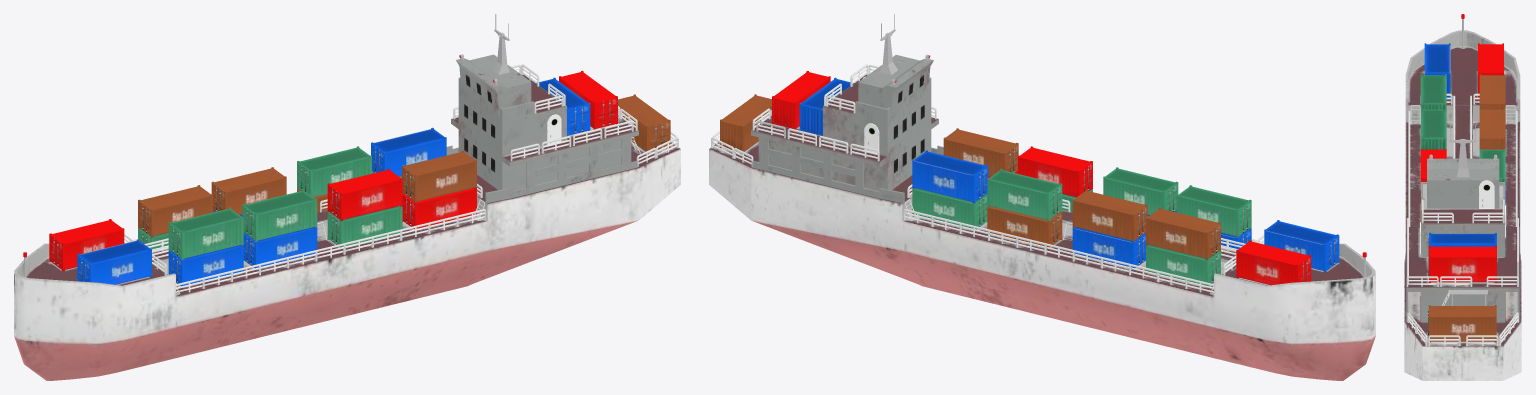
Rendered from container.glb.
The picture shows the model from 3 angles, left to right: view 1: azimuth 30°, elevation 25°; view 2: azimuth 150°, elevation 25°; view 3: azimuth 270°, elevation 25°; orthographic projection. The views are drawn at different scales.
Visible parts, largest first — view 1: polySurface2268, polySurface2207, polySurface2081, polySurface1965, polySurface1987, polySurface2117, polySurface2215, polySurface2336, polySurface2270, polySurface2021, polySurface2138, polySurface2347 (+8 smaller); view 2: polySurface2268, polySurface2207, polySurface2138, polySurface2021, polySurface2270, polySurface2106, polySurface2216, polySurface2347, polySurface2081, polySurface1965, polySurface2336, polySurface1987 (+8 smaller); view 3: polySurface2268, polySurface2207, polySurface2322, polySurface2311, polySurface2106, polySurface1987, polySurface2336, polySurface2300, polySurface2270, polySurface2081, polySurface2347, polySurface2208 (+19 smaller).
Boxes of the visible parts, x1=… form: polySurface2268: x1=14, y1=142, x2=680, y2=380; polySurface2207: x1=451, y1=54, x2=638, y2=190; polySurface2081: x1=168, y1=207, x2=243, y2=259; polySurface1965: x1=327, y1=168, x2=402, y2=221; polySurface1987: x1=242, y1=189, x2=317, y2=241; polySurface2117: x1=402, y1=150, x2=476, y2=202; polySurface2215: x1=485, y1=137, x2=637, y2=203; polySurface2336: x1=77, y1=239, x2=151, y2=284; polySurface2270: x1=138, y1=185, x2=212, y2=237; polySurface2021: x1=297, y1=146, x2=371, y2=197; polySurface2138: x1=371, y1=127, x2=446, y2=176; polySurface2347: x1=49, y1=219, x2=124, y2=271; polySurface2268: x1=709, y1=141, x2=1375, y2=380; polySurface2207: x1=751, y1=55, x2=938, y2=190; polySurface2138: x1=912, y1=150, x2=988, y2=203; polySurface2021: x1=987, y1=169, x2=1062, y2=221; polySurface2270: x1=1146, y1=207, x2=1220, y2=259; polySurface2106: x1=1072, y1=189, x2=1147, y2=241; polySurface2216: x1=752, y1=137, x2=904, y2=203; polySurface2347: x1=1236, y1=240, x2=1311, y2=285; polySurface2081: x1=1176, y1=185, x2=1251, y2=237; polySurface1965: x1=1018, y1=146, x2=1092, y2=197; polySurface2336: x1=1264, y1=220, x2=1339, y2=272; polySurface1987: x1=1103, y1=167, x2=1178, y2=215; polySurface2268: x1=1404, y1=30, x2=1521, y2=380; polySurface2207: x1=1406, y1=158, x2=1519, y2=322; polySurface2322: x1=1429, y1=245, x2=1496, y2=282; polySurface2311: x1=1428, y1=305, x2=1496, y2=342; polySurface2106: x1=1479, y1=109, x2=1505, y2=149; polySurface1987: x1=1420, y1=109, x2=1446, y2=149; polySurface2336: x1=1424, y1=43, x2=1450, y2=97; polySurface2300: x1=1429, y1=232, x2=1496, y2=246; polySurface2270: x1=1479, y1=74, x2=1505, y2=109; polySurface2081: x1=1420, y1=74, x2=1446, y2=109; polySurface2347: x1=1478, y1=43, x2=1503, y2=97; polySurface2208: x1=1455, y1=105, x2=1472, y2=158.
Bounding box in the file's own units: 2 × 0.7404 × 0.3276.
1 material, 1 textured.
